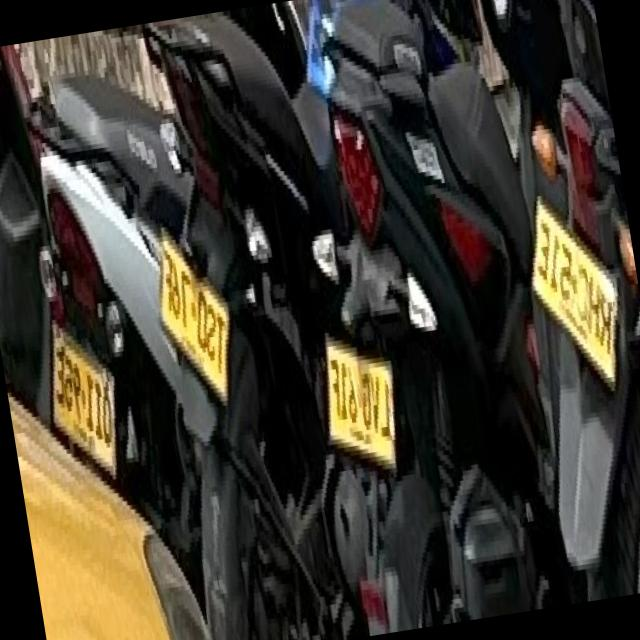number plate: (534, 195, 618, 381), (161, 231, 230, 396), (54, 319, 117, 470), (327, 333, 397, 463)
